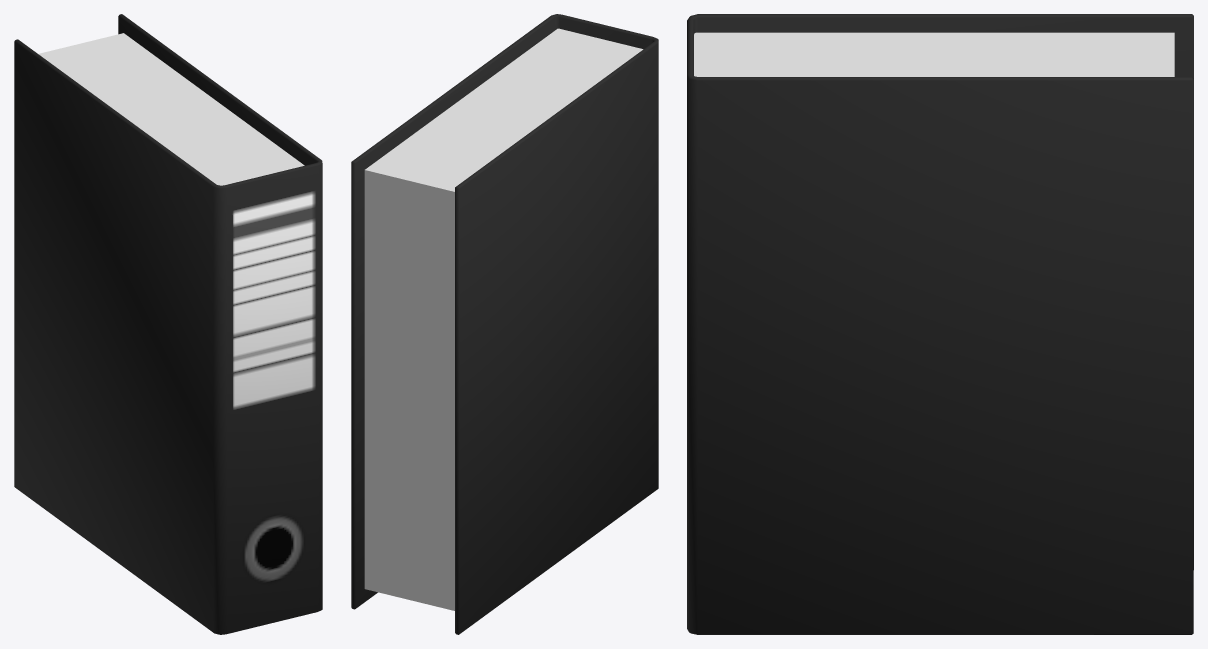
The model's file is office folder2.FBX.
The picture shows the model from 3 angles, left to right: view 1: azimuth 30°, elevation 25°; view 2: azimuth 150°, elevation 25°; view 3: azimuth 270°, elevation 25°; orthographic projection. The views are drawn at different scales.
Visible parts, largest first — view 1: office folder2; view 2: office folder2; view 3: office folder2.
Part boxes in pixels (x1,y1,x2,y2): office folder2: (14,14,322,634); office folder2: (351,14,658,634); office folder2: (687,14,1193,634).
Size of the model in its own units: 2.88 by 9.36 by 11.33.
Materials: 1 (1 with a texture image).
